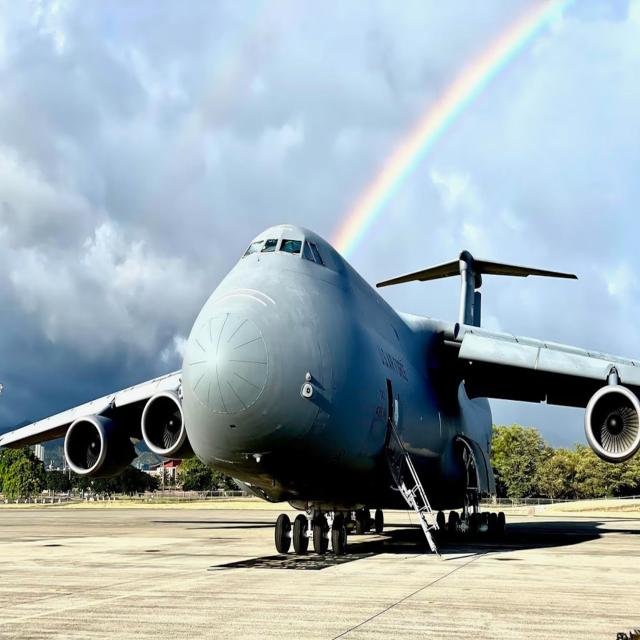C5: (0, 180, 640, 570)
